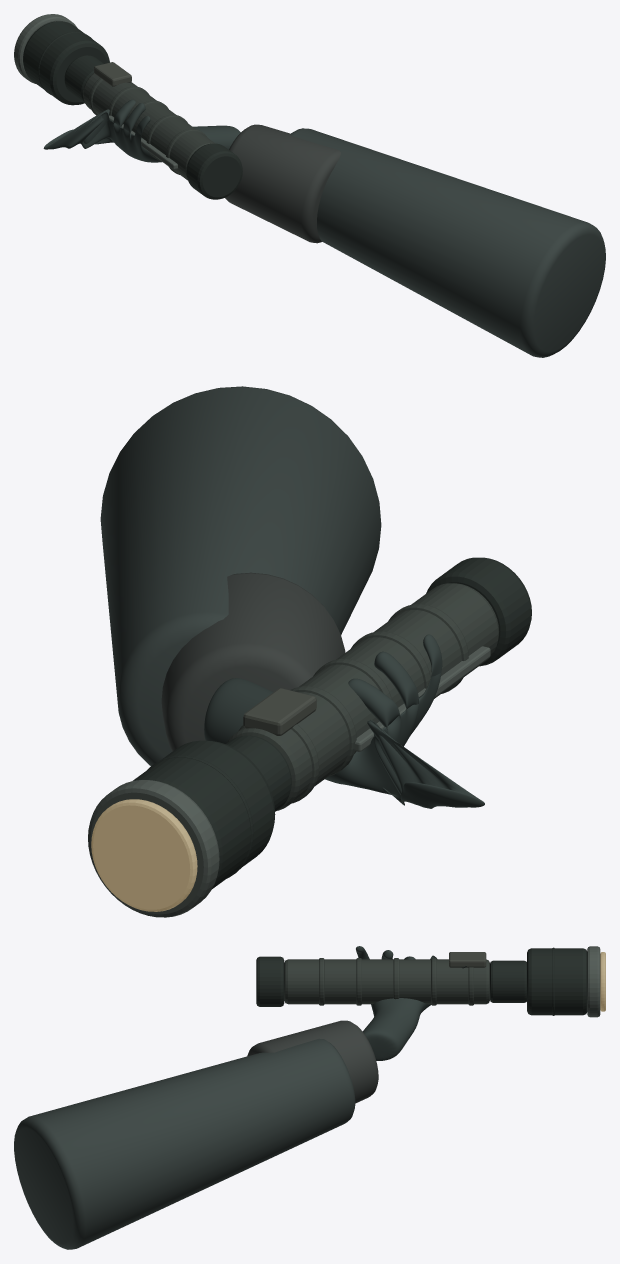
The model's file is investigator-flashlight.glb.
3 views of the same model, one above another, from view 1: azimuth 30°, elevation 25°; view 2: azimuth 150°, elevation 25°; view 3: azimuth 270°, elevation 25° (orthographic). The views are drawn at different scales.
Parts seen in each view (by area): view 1: ENV_INVESTIGATOR_COAT_DARK_FABRIC, ENV_EVIDENCE_GLOVE_GATHERED_CUFF, ENV_FLASHLIGHT_BLACK_ANODIZED_ALUMINIUM, ENV_FLASHLIGHT_RUBBER_GRIP, ENV_EVIDENCE_GLOVE_BLACK_NITRILE, ENV_FLASHLIGHT_WORN_STEEL_DETAILS, ENV_FLASHLIGHT_RECESSED_BLACK_SWITCH; view 2: ENV_INVESTIGATOR_COAT_DARK_FABRIC, ENV_FLASHLIGHT_RUBBER_GRIP, ENV_EVIDENCE_GLOVE_GATHERED_CUFF, ENV_FLASHLIGHT_BLACK_ANODIZED_ALUMINIUM, ENV_EVIDENCE_GLOVE_BLACK_NITRILE, ENV_FLASHLIGHT_SMOKED_LENS, ENV_FLASHLIGHT_WORN_STEEL_DETAILS, ENV_FLASHLIGHT_RECESSED_BLACK_SWITCH; view 3: ENV_INVESTIGATOR_COAT_DARK_FABRIC, ENV_FLASHLIGHT_RUBBER_GRIP, ENV_FLASHLIGHT_BLACK_ANODIZED_ALUMINIUM, ENV_EVIDENCE_GLOVE_GATHERED_CUFF, ENV_EVIDENCE_GLOVE_BLACK_NITRILE, ENV_FLASHLIGHT_WORN_STEEL_DETAILS, ENV_FLASHLIGHT_RECESSED_BLACK_SWITCH.
Part boxes in pixels (box(x1,y1,x2,y2)): ENV_INVESTIGATOR_COAT_DARK_FABRIC: box(290, 128, 605, 357); ENV_EVIDENCE_GLOVE_GATHERED_CUFF: box(225, 124, 340, 243); ENV_FLASHLIGHT_BLACK_ANODIZED_ALUMINIUM: box(23, 21, 242, 199); ENV_FLASHLIGHT_RUBBER_GRIP: box(83, 73, 214, 180); ENV_EVIDENCE_GLOVE_BLACK_NITRILE: box(43, 99, 240, 162); ENV_FLASHLIGHT_WORN_STEEL_DETAILS: box(14, 14, 178, 169); ENV_FLASHLIGHT_RECESSED_BLACK_SWITCH: box(94, 62, 131, 86); ENV_INVESTIGATOR_COAT_DARK_FABRIC: box(100, 386, 381, 765); ENV_FLASHLIGHT_RUBBER_GRIP: box(227, 583, 498, 810); ENV_EVIDENCE_GLOVE_GATHERED_CUFF: box(161, 572, 345, 751); ENV_FLASHLIGHT_BLACK_ANODIZED_ALUMINIUM: box(133, 557, 531, 888); ENV_EVIDENCE_GLOVE_BLACK_NITRILE: box(204, 634, 484, 808); ENV_FLASHLIGHT_SMOKED_LENS: box(91, 799, 197, 911); ENV_FLASHLIGHT_WORN_STEEL_DETAILS: box(88, 646, 490, 917); ENV_FLASHLIGHT_RECESSED_BLACK_SWITCH: box(243, 688, 316, 735); ENV_INVESTIGATOR_COAT_DARK_FABRIC: box(14, 1038, 355, 1249); ENV_FLASHLIGHT_RUBBER_GRIP: box(284, 958, 489, 1005); ENV_FLASHLIGHT_BLACK_ANODIZED_ALUMINIUM: box(256, 947, 587, 1015); ENV_EVIDENCE_GLOVE_GATHERED_CUFF: box(247, 1020, 378, 1103); ENV_EVIDENCE_GLOVE_BLACK_NITRILE: box(356, 946, 466, 1060); ENV_FLASHLIGHT_WORN_STEEL_DETAILS: box(587, 946, 600, 1017); ENV_FLASHLIGHT_RECESSED_BLACK_SWITCH: box(449, 952, 486, 967).
Size of the model in its own units: 0.4535 by 0.2188 by 0.6331.
